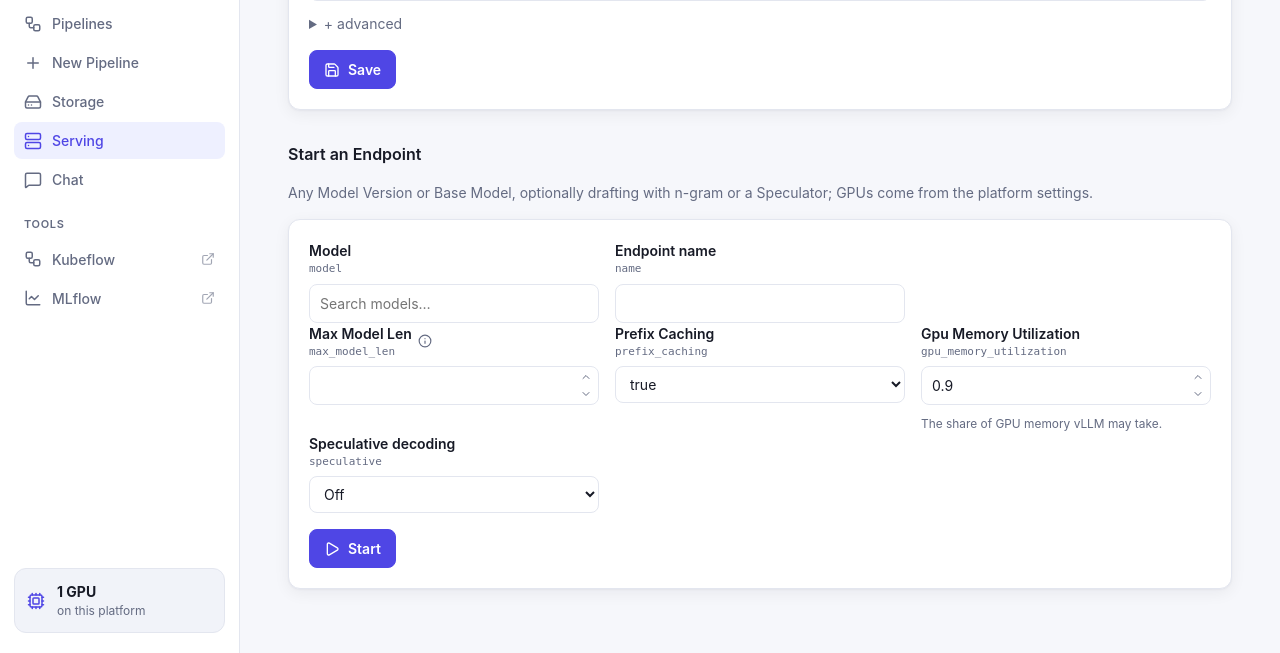
a start the API refuses outright shows its reason
(page scrolled)
Click the button "Start" at (352, 549), box [309,529,396,568]
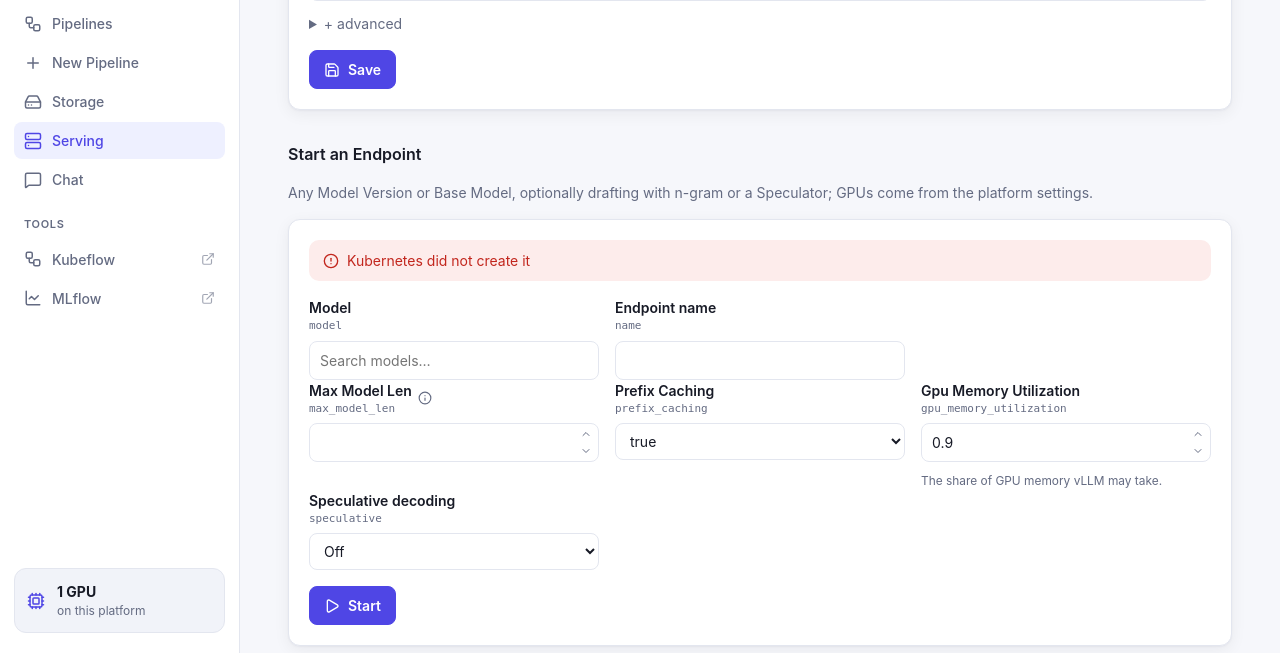
Expected: the text "Kubernetes did not create it" is shown, [309,240,1211,281]
